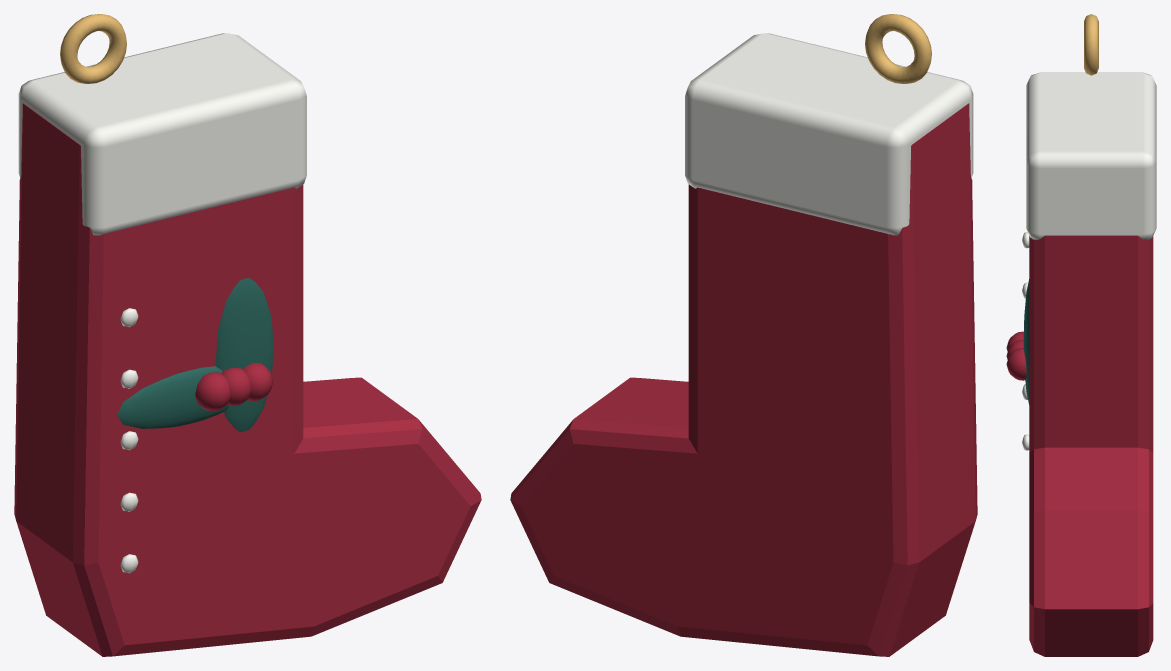
The model's file is christmas-storybook-embroidered-stocking-e62bafc4__18741.glb.
The picture shows the model from 3 angles, left to right: view 1: azimuth 30°, elevation 25°; view 2: azimuth 150°, elevation 25°; view 3: azimuth 270°, elevation 25°; orthographic projection. The views are drawn at different scales.
Visible parts, largest first — view 1: berry, cream, pine, brass; view 2: berry, cream, brass; view 3: berry, cream, brass, pine.
Boxes of the visible parts, x1,y1,x2,y2 form: berry: (14, 103, 481, 656); cream: (18, 33, 306, 573); pine: (117, 278, 273, 431); brass: (60, 14, 126, 83); berry: (510, 103, 977, 656); cream: (685, 33, 973, 235); brass: (865, 14, 931, 83); berry: (1006, 235, 1153, 656); cream: (1022, 72, 1156, 450); brass: (1084, 14, 1098, 75); pine: (1023, 279, 1029, 404).
Bounding box in the file's own units: 0.6247 × 0.9453 × 0.242.
